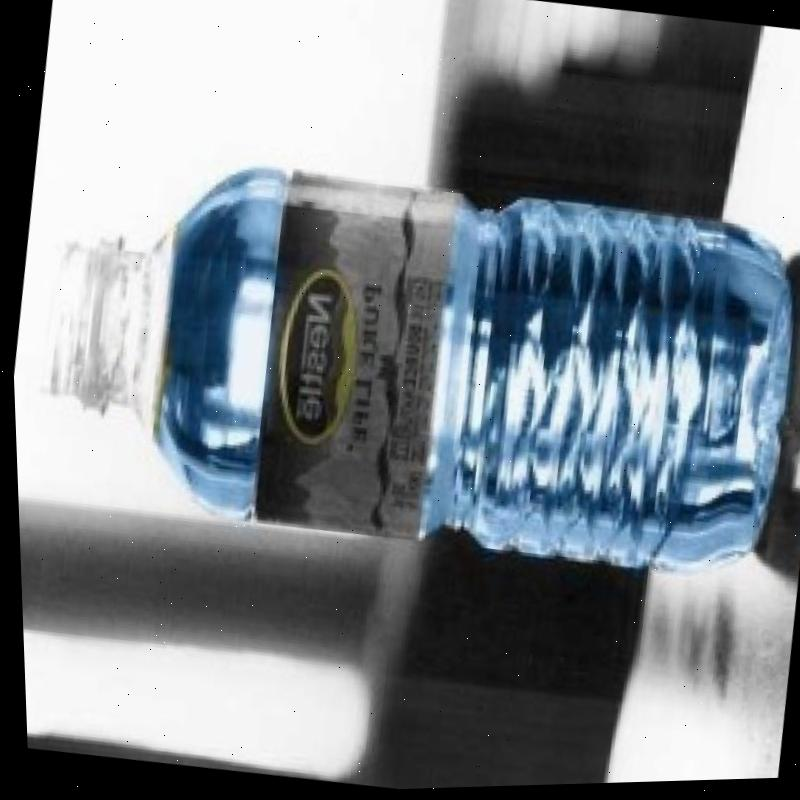botella: (18, 134, 800, 596)
